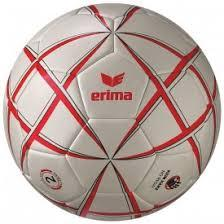ballon_handball: (1, 2, 221, 221)
